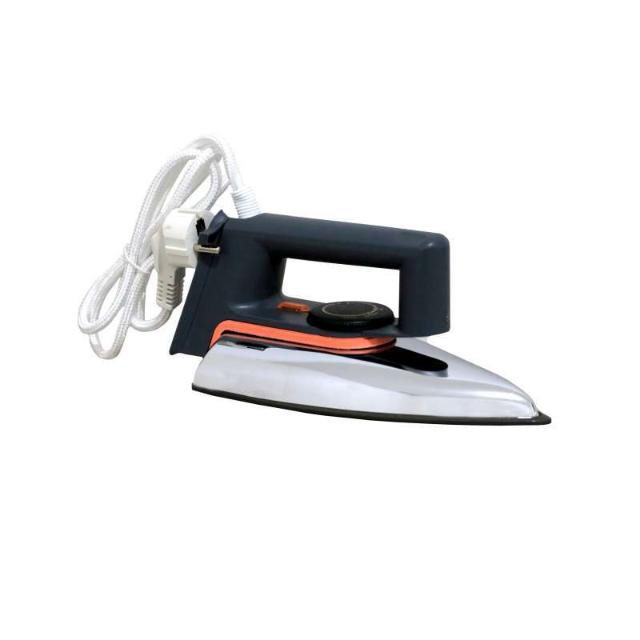Clothes-Iron: (105, 117, 465, 501)
